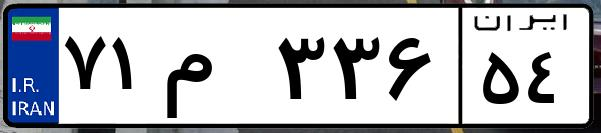1: (110, 28, 158, 98)
3: (270, 28, 330, 110), (330, 28, 385, 110)
4: (525, 38, 570, 115)
5: (475, 38, 525, 113)
6: (385, 28, 445, 110)
7: (57, 26, 110, 100)
م: (158, 20, 270, 120)
